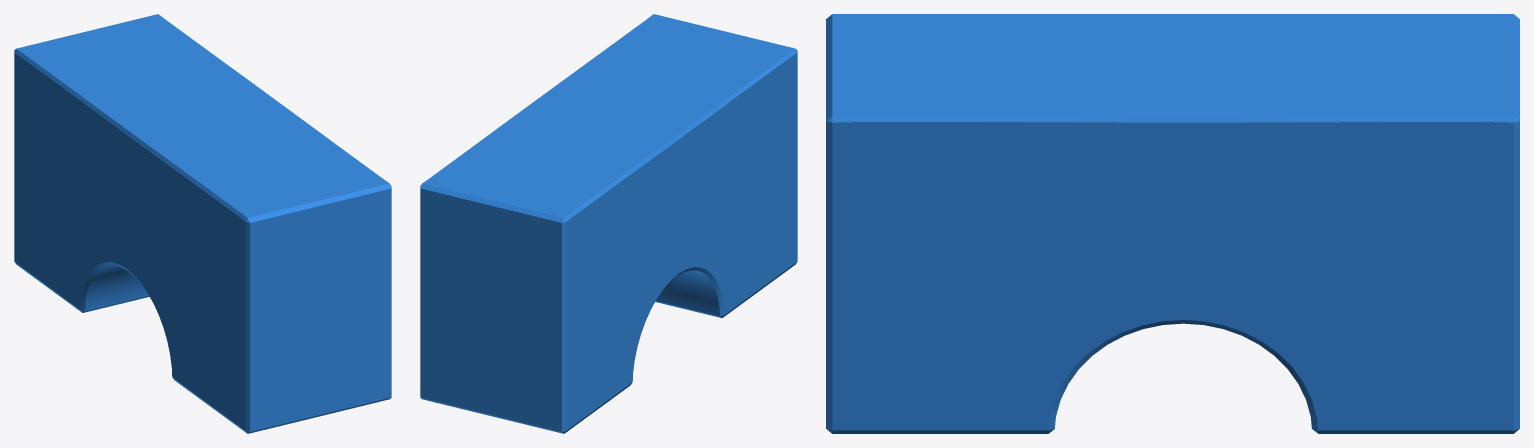
The model's file is singleStone.fbx.
The picture shows the model from 3 angles, left to right: view 1: azimuth 30°, elevation 25°; view 2: azimuth 150°, elevation 25°; view 3: azimuth 270°, elevation 25°; orthographic projection. The views are drawn at different scales.
Visible parts, largest first — view 1: singleStone; view 2: singleStone; view 3: singleStone.
Boxes of the visible parts, x1=… form: singleStone: x1=14, y1=14, x2=391, y2=433; singleStone: x1=420, y1=14, x2=797, y2=433; singleStone: x1=826, y1=14, x2=1519, y2=433.
Bounding box in the file's own units: 23.91 × 33.83 × 66.87.
